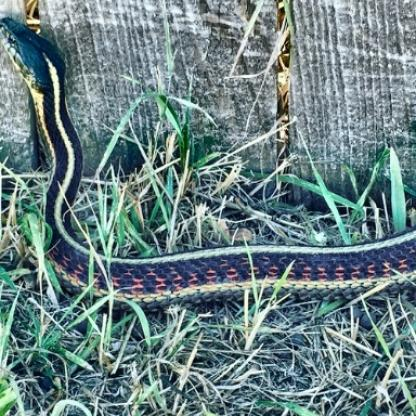Snake: (1, 15, 416, 309)
